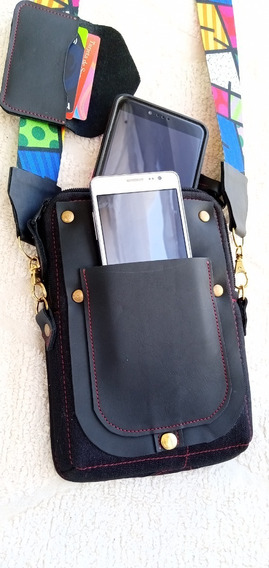cartera: (22, 168, 256, 485)
